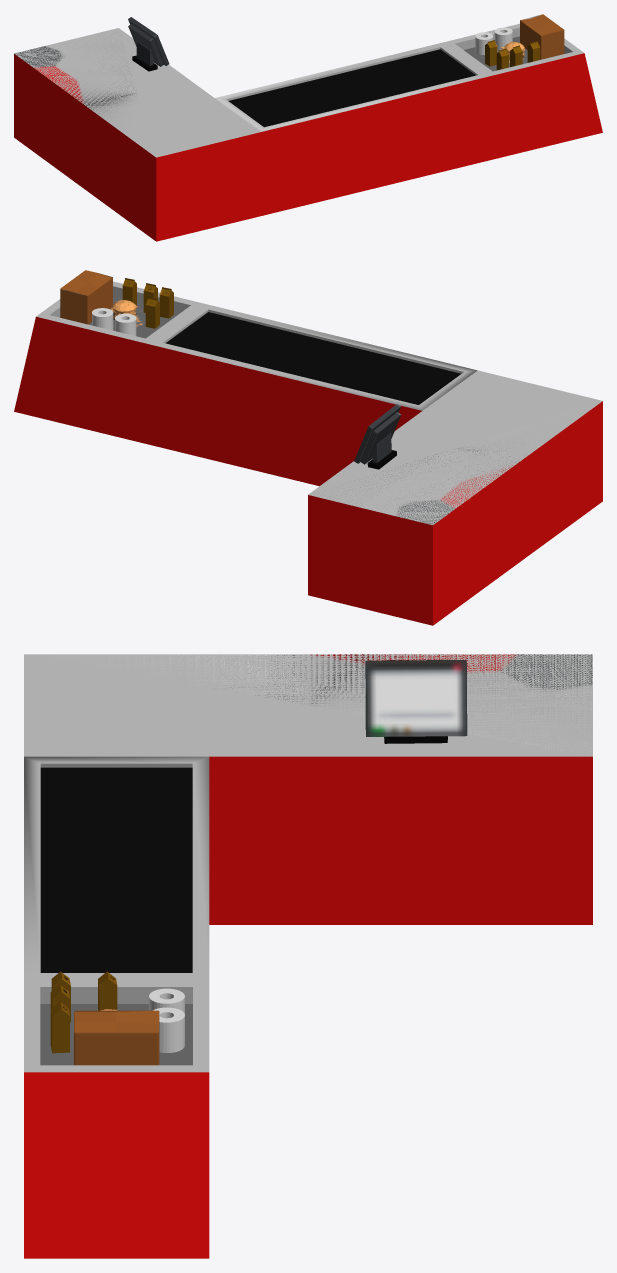
The model's file is CajaRegistradoraEne.obj.
3 views of the same model, one above another, from view 1: azimuth 30°, elevation 25°; view 2: azimuth 150°, elevation 25°; view 3: azimuth 270°, elevation 25° (orthographic). The views are drawn at different scales.
Visible parts, largest first — view 1: hamburguesa; view 2: hamburguesa; view 3: hamburguesa.
Part boxes in pixels (<box>): hamburguesa: <box>14,14,602,241</box>; hamburguesa: <box>14,270,602,625</box>; hamburguesa: <box>24,654,592,1258</box>.
Size of the model in its own units: 115 by 30.18 by 63.26.
